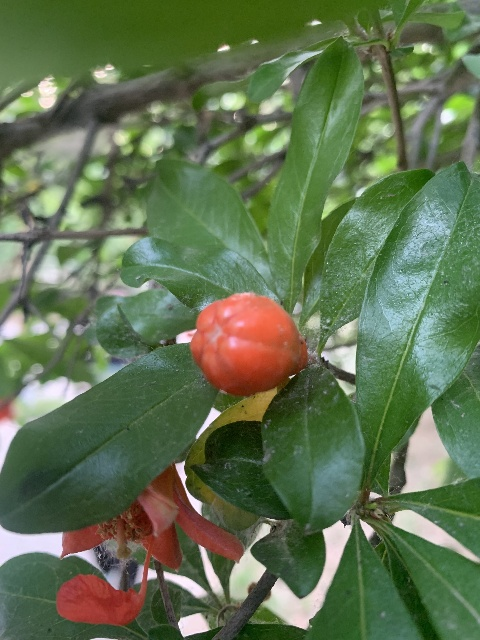bud: (190, 293, 307, 398)
flower: (56, 465, 243, 625)
